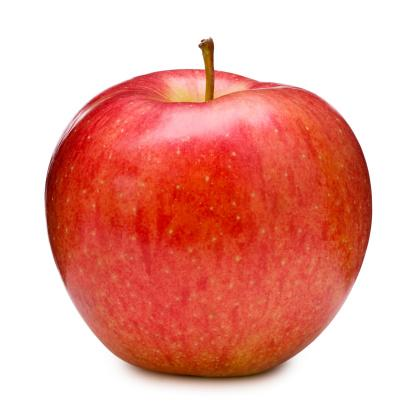Apple: (40, 34, 377, 384)
